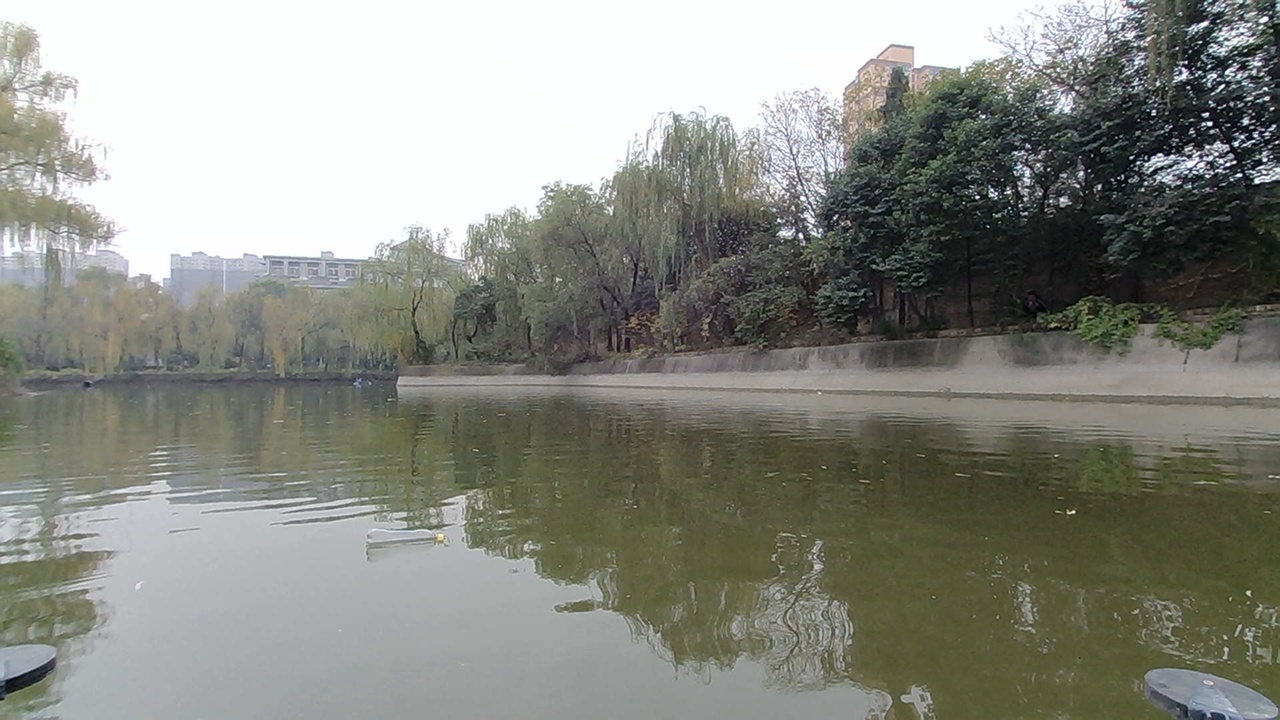bottle: (360, 508, 452, 563)
